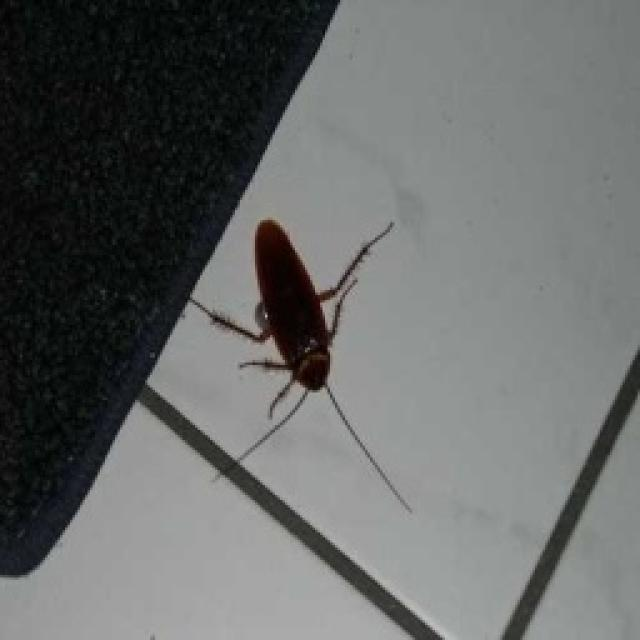cockroach: (183, 212, 418, 517)
